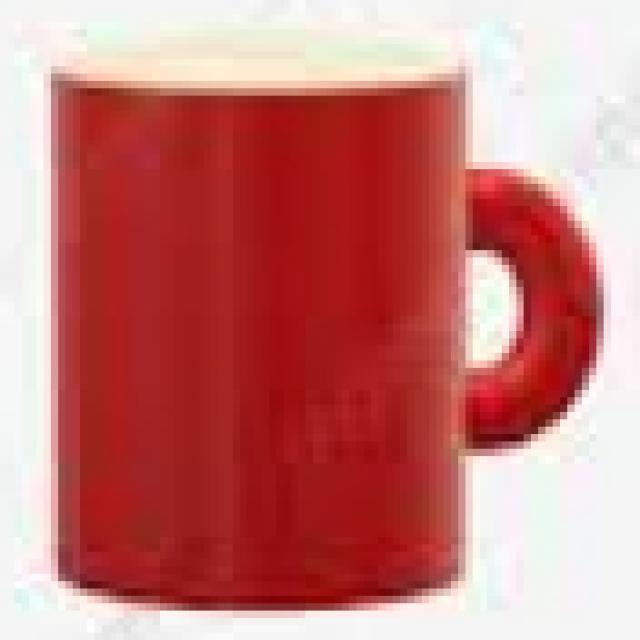taza: (46, 33, 608, 610)
